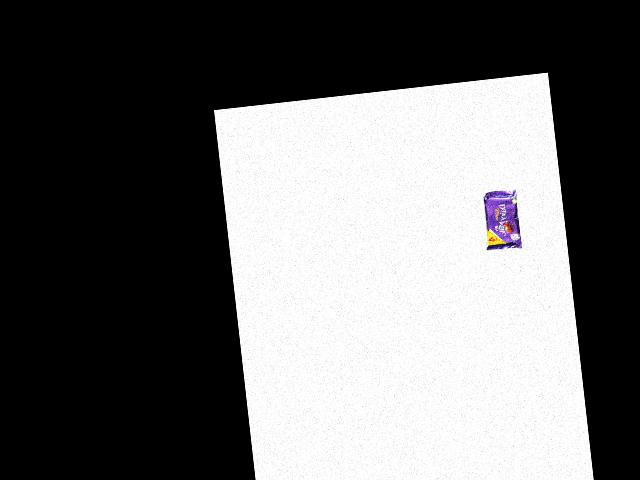chocolate: (480, 186, 528, 258)
